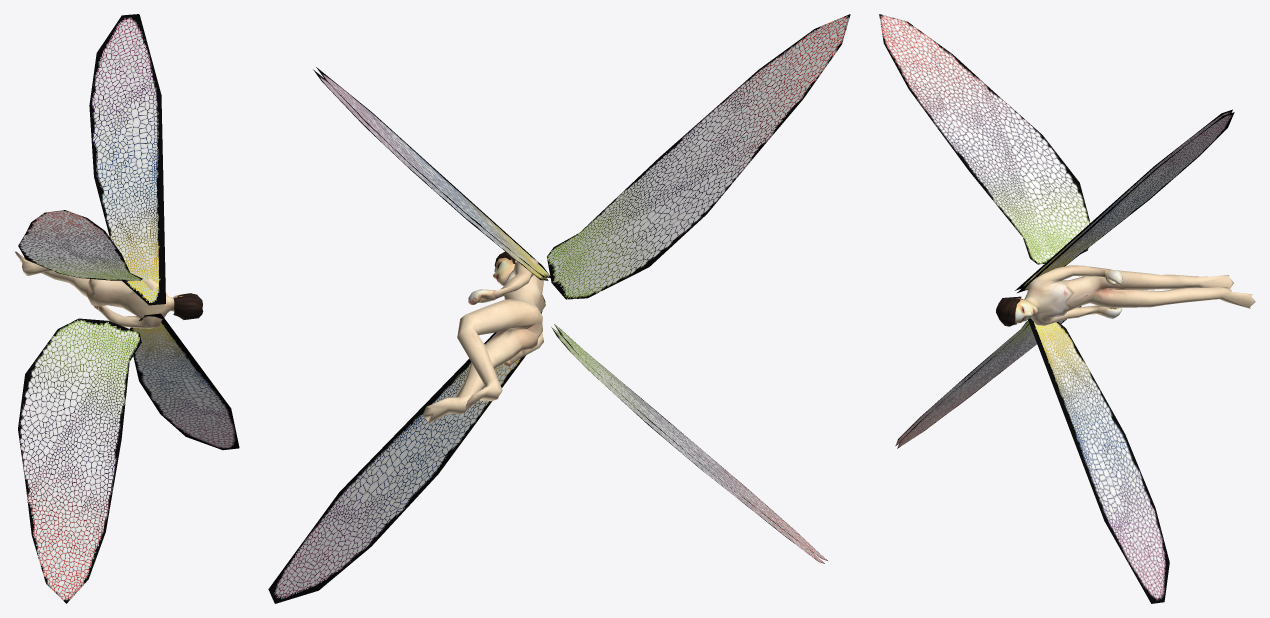
Rendered from angel_000036.obj.
3 views of the same model, side by side, from view 1: azimuth 30°, elevation 25°; view 2: azimuth 150°, elevation 25°; view 3: azimuth 270°, elevation 25° (orthographic). The views are drawn at different scales.
Visible parts, largest first — view 1: Plane.001, Plane.003, Plane, Plane.002, body.001_omino.012, hair.003_omino.013; view 2: Plane.002, Plane, body.001_omino.012, Plane.001, Plane.003; view 3: Plane.002, Plane, body.001_omino.012, Plane.003, Plane.001, hair.003_omino.013.
Part boxes in pixels (left/top/right/bottom): Plane.001: left=18, top=318, right=141, bottom=603; Plane.003: left=89, top=14, right=165, bottom=305; Plane: left=130, top=313, right=239, bottom=450; Plane.002: left=18, top=210, right=142, bottom=280; body.001_omino.012: left=15, top=251, right=182, bottom=328; hair.003_omino.013: left=173, top=293, right=203, bottom=319; Plane.002: left=547, top=14, right=850, bottom=299; Plane: left=268, top=295, right=545, bottom=603; body.001_omino.012: left=422, top=256, right=545, bottom=423; Plane.001: left=551, top=324, right=827, bottom=563; Plane.003: left=313, top=67, right=550, bottom=280; Plane.002: left=879, top=14, right=1090, bottom=264; Plane: left=1028, top=318, right=1169, bottom=603; body.001_omino.012: left=1008, top=265, right=1255, bottom=325; Plane.003: left=1015, top=109, right=1234, bottom=292; Plane.001: left=895, top=306, right=1081, bottom=448; hair.003_omino.013: left=996, top=296, right=1023, bottom=326.
Bounding box in the file's own units: 4.01 × 5.34 × 3.96.
